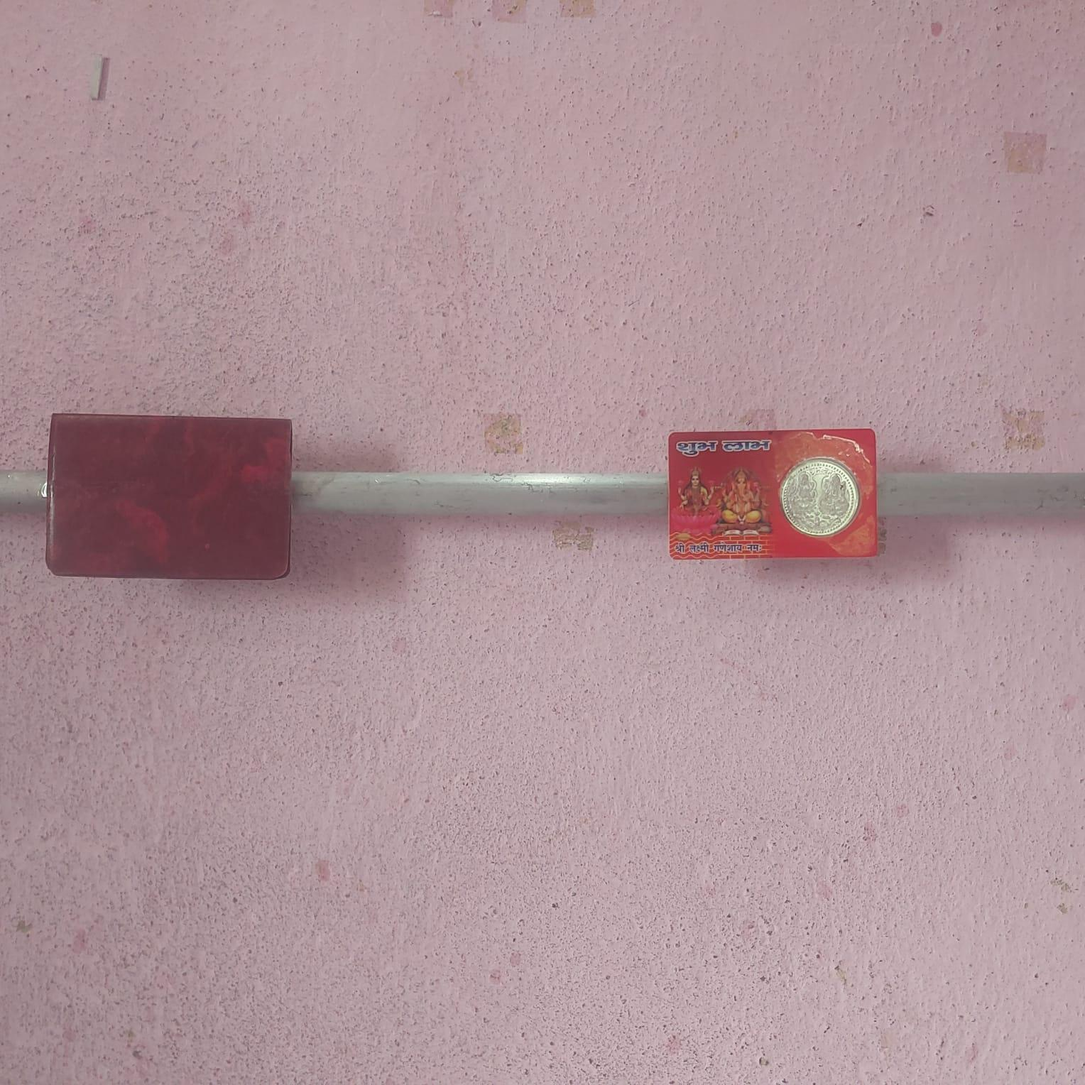blessing_card: (663, 425, 885, 559)
wallet: (42, 414, 293, 578)
